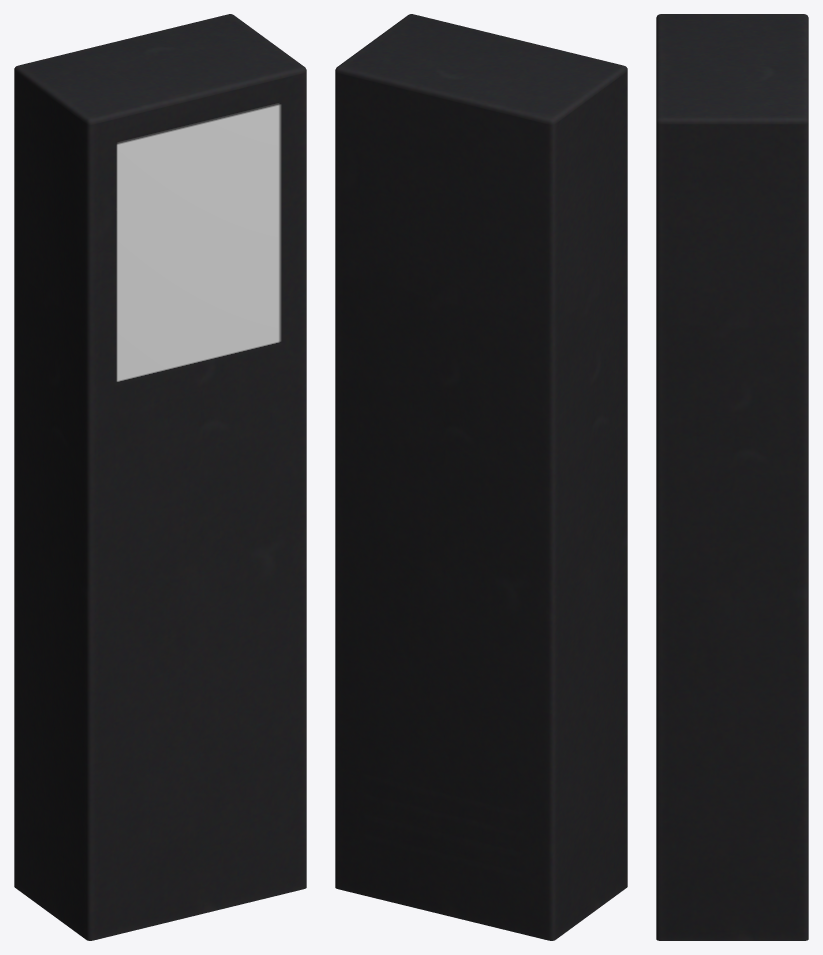
Rendered from GardenLightRect01_1.FBX.
3 views of the same model, side by side, from view 1: azimuth 30°, elevation 25°; view 2: azimuth 150°, elevation 25°; view 3: azimuth 270°, elevation 25° (orthographic).
Parts seen in each view (by area): view 1: GardenLightRect01_1; view 2: GardenLightRect01_1; view 3: GardenLightRect01_1.
Boxes of the visible parts, box(x1,y1,x2,y2) form: GardenLightRect01_1: box(14, 14, 306, 940); GardenLightRect01_1: box(335, 14, 627, 940); GardenLightRect01_1: box(656, 14, 808, 940).
Size of what is drawn, in the model's own units: 0.1 by 0.3569 by 0.0601.
